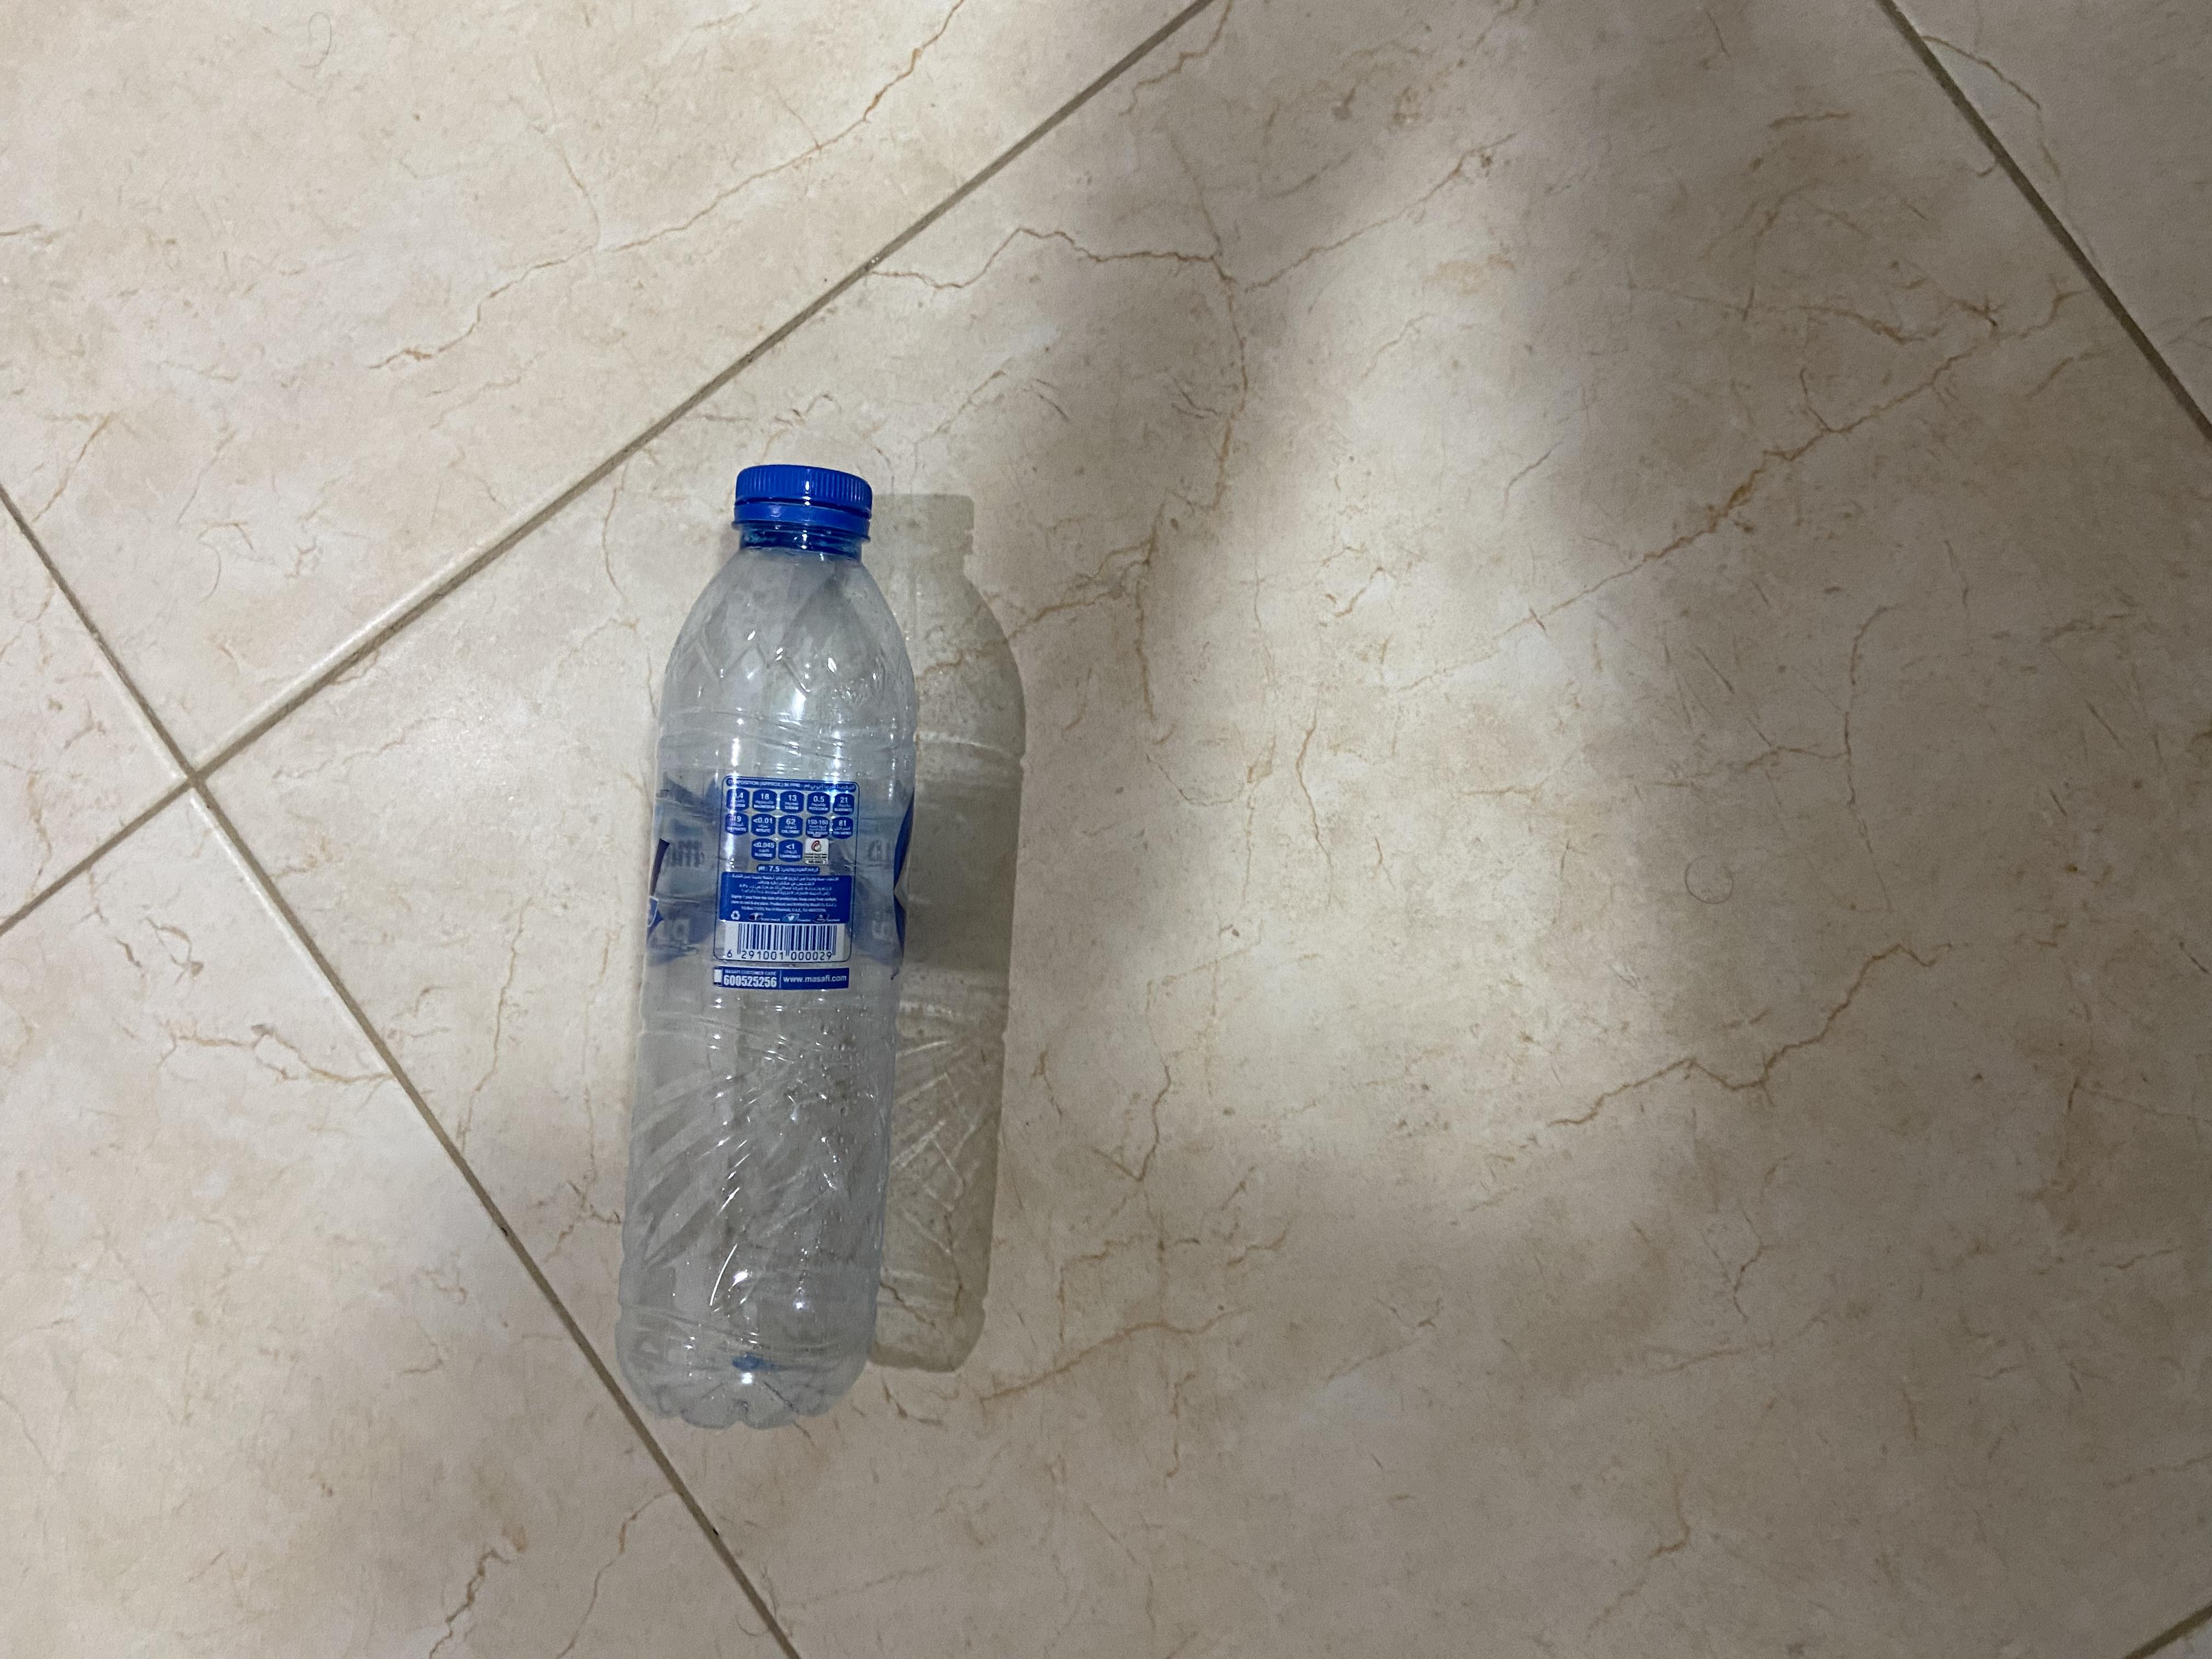bottle: (284, 552, 1693, 619)
